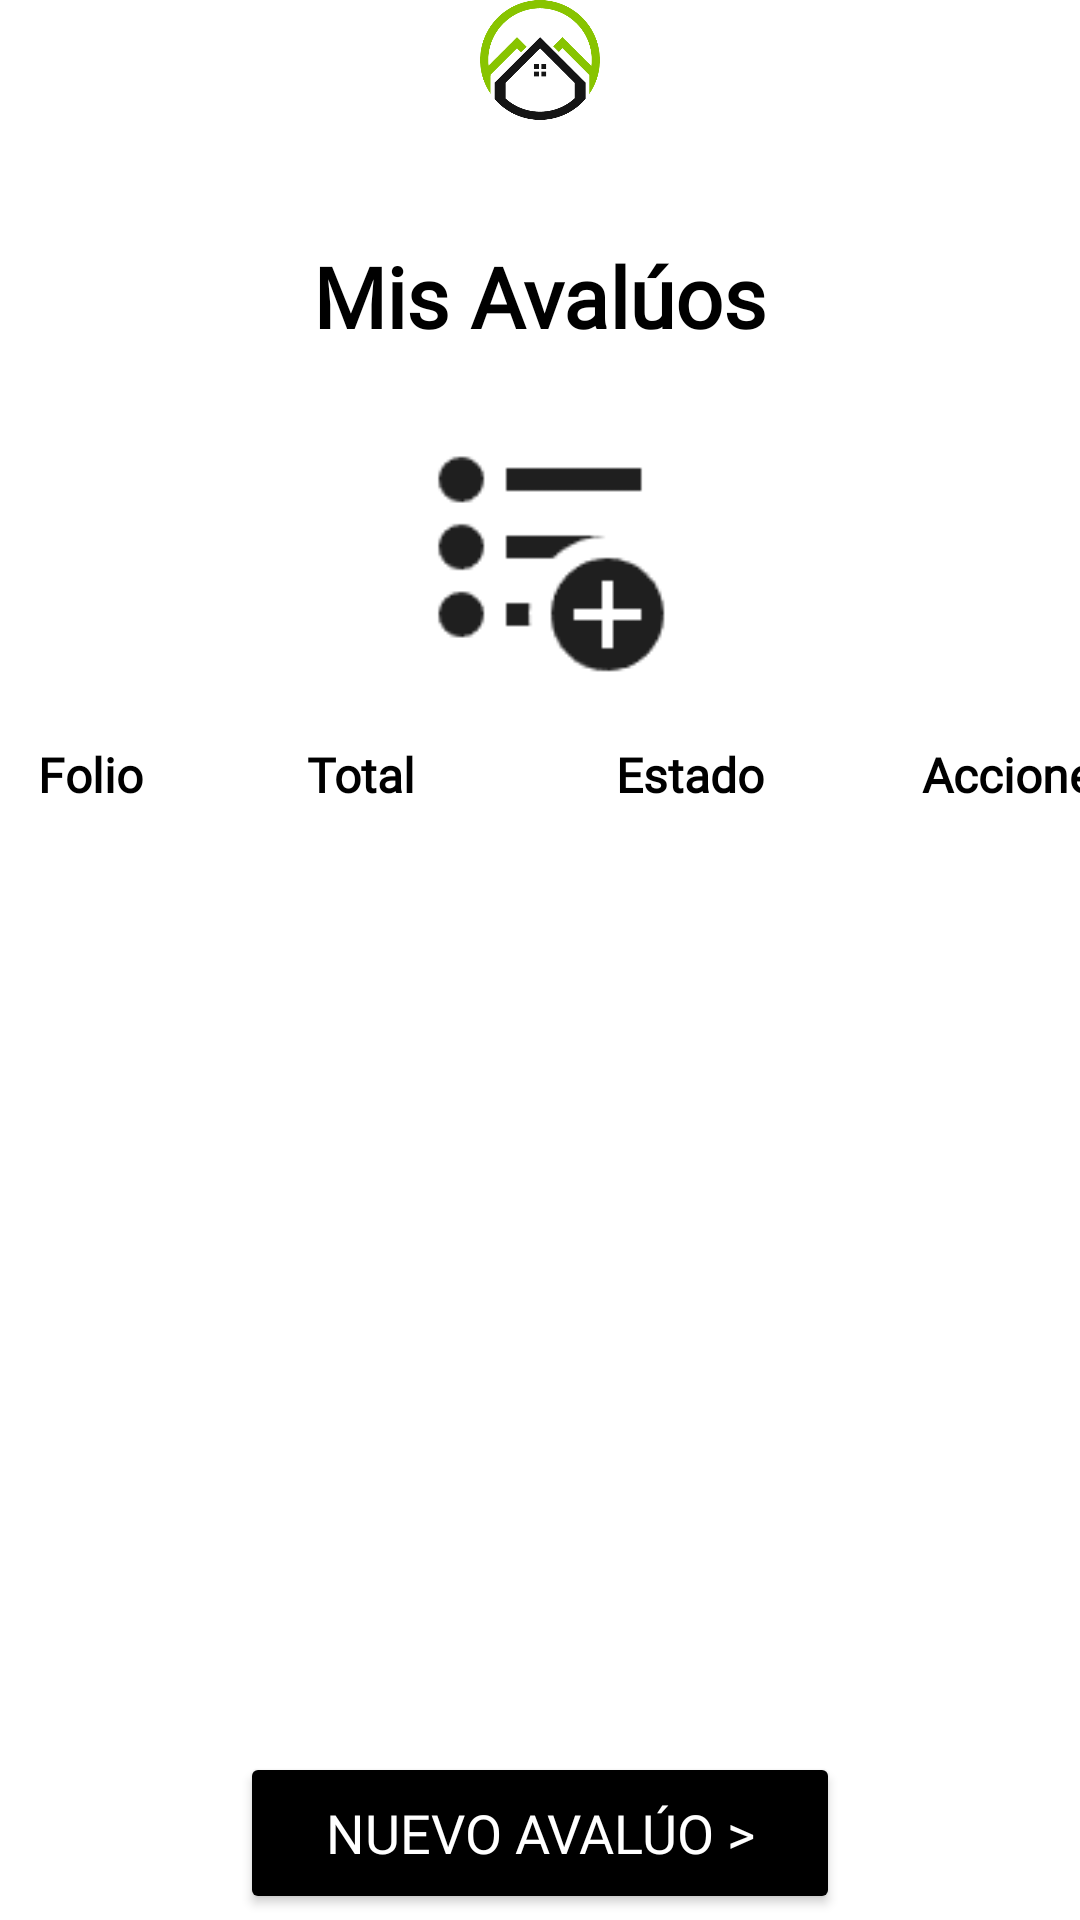

Named icons in this screenshot (1080px×1920px) and their centers, point (x, y):
lista avaluos: point (551, 564)
